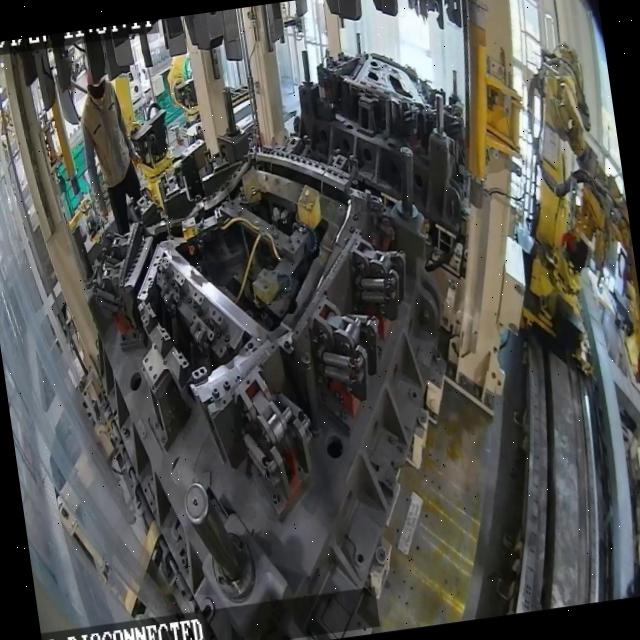Person: (72, 63, 150, 240)
